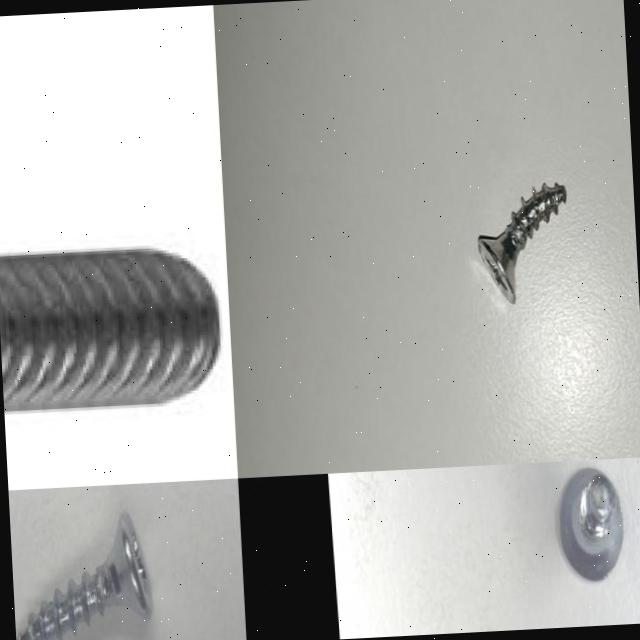Screw: (0, 246, 221, 412), (17, 514, 153, 640), (478, 184, 567, 305), (559, 469, 624, 582)
